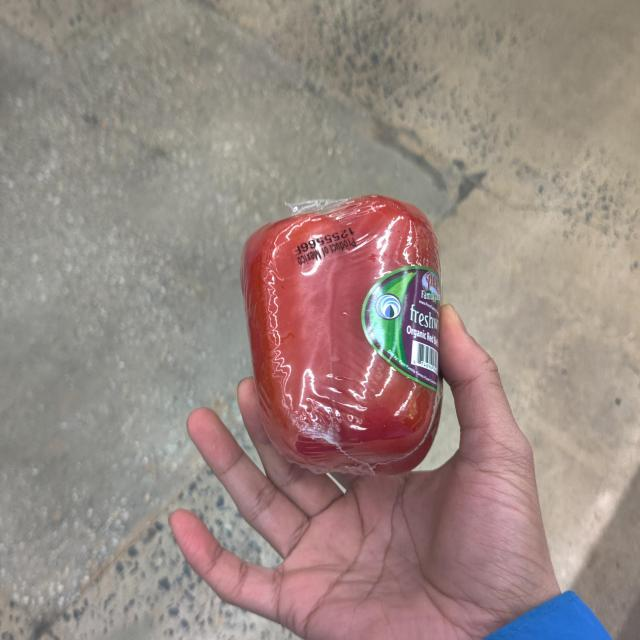Milk: (242, 196, 445, 474)
